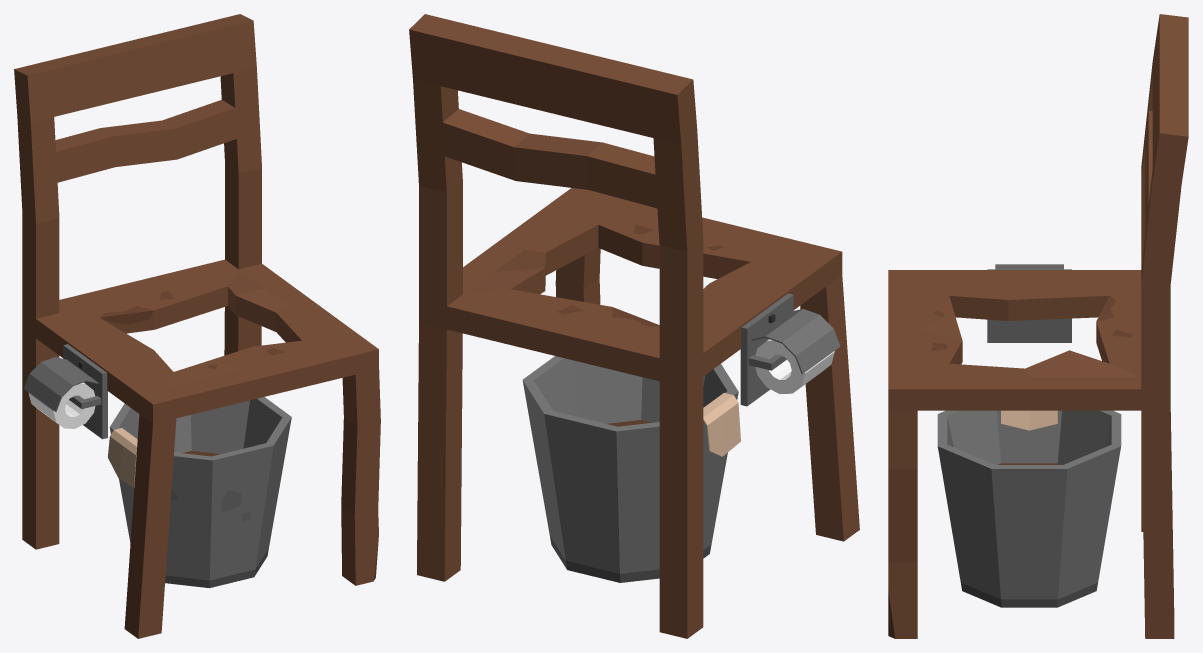
Rendered from Toilet_02.fbx.
3 views of the same model, side by side, from view 1: azimuth 30°, elevation 25°; view 2: azimuth 150°, elevation 25°; view 3: azimuth 270°, elevation 25° (orthographic). The views are drawn at different scales.
Parts seen in each view (by area): view 1: Toilet_02; view 2: Toilet_02; view 3: Toilet_02.
Boxes of the visible parts, x1,y1,x2,y2 form: Toilet_02: (14,14,380,638); Toilet_02: (409,14,859,638); Toilet_02: (888,14,1188,638).
Bounding box in the file's own units: 61.12 × 99 × 53.3.
